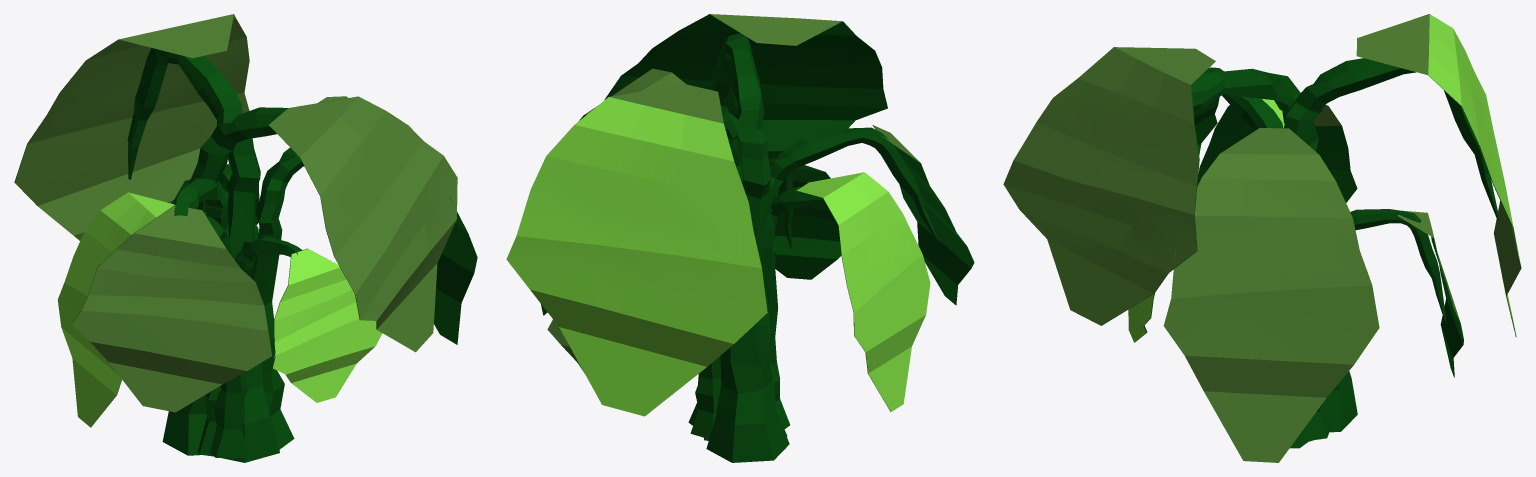
File: tree3.fbx
The picture shows the model from 3 angles, left to right: view 1: azimuth 30°, elevation 25°; view 2: azimuth 150°, elevation 25°; view 3: azimuth 270°, elevation 25°; orthographic projection. The views are drawn at different scales.
Parts seen in each view (by area): view 1: tree3; view 2: tree3; view 3: tree3.
Boxes of the visible parts, x1,y1,x2,y2 form: tree3: [14, 14, 477, 462]; tree3: [506, 14, 974, 462]; tree3: [1003, 14, 1521, 462].
Size of the model in its own units: 3312 by 2923 by 3541.
